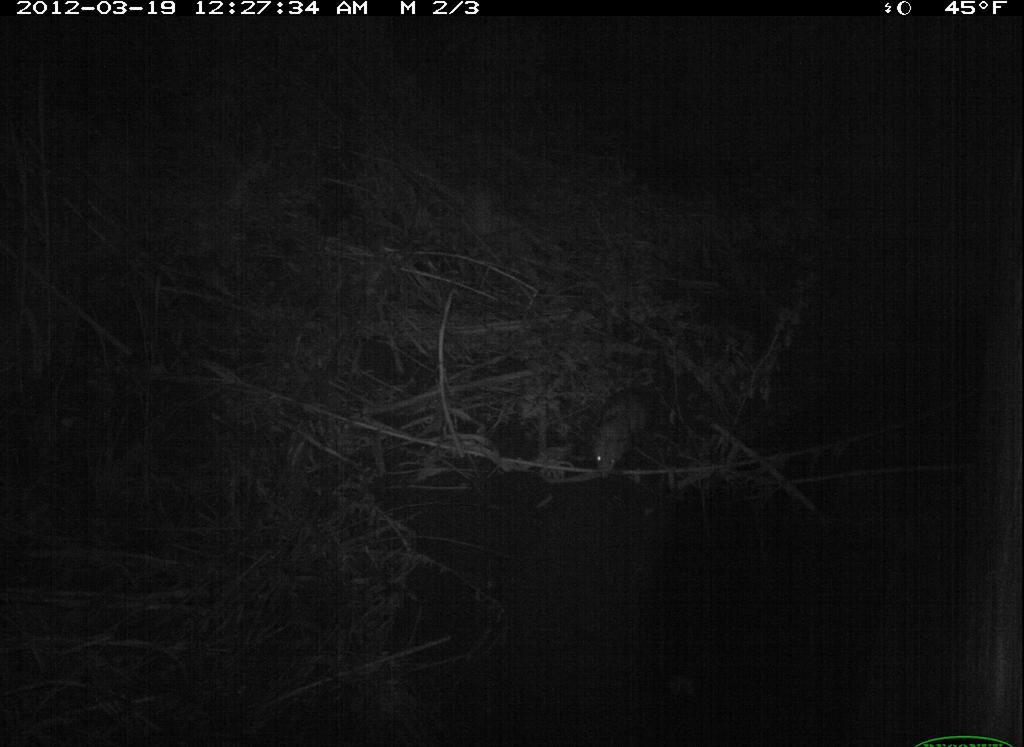opossum: (586, 382, 671, 481)
